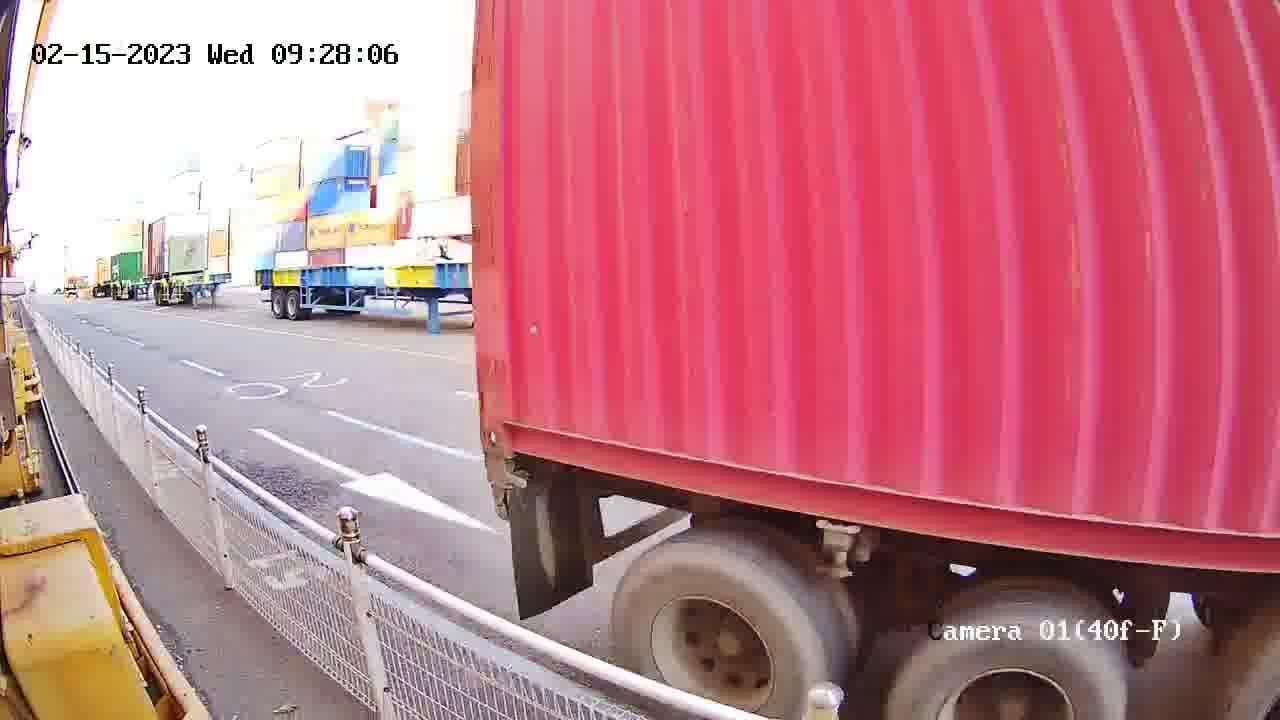Cone: (484, 456, 515, 501)
Hole_L: (479, 379, 561, 465)
Tire: (606, 540, 810, 716), (895, 614, 1129, 719)
